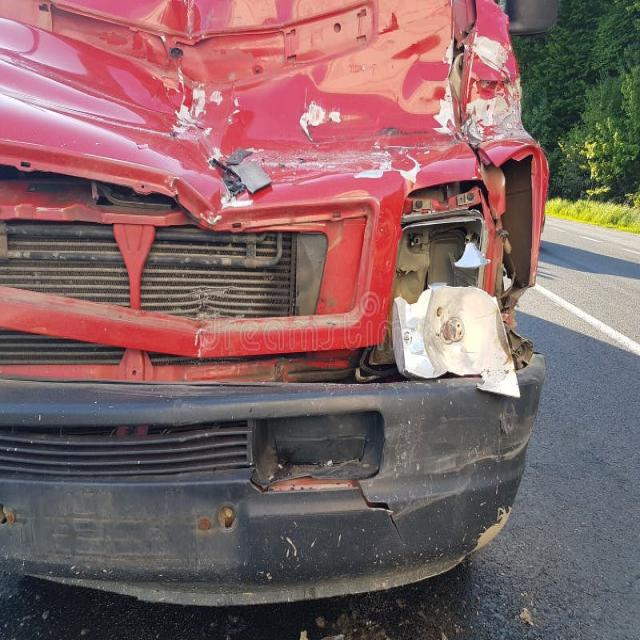crush: (0, 0, 549, 605)
